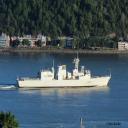Fragata: (16, 46, 114, 90)
